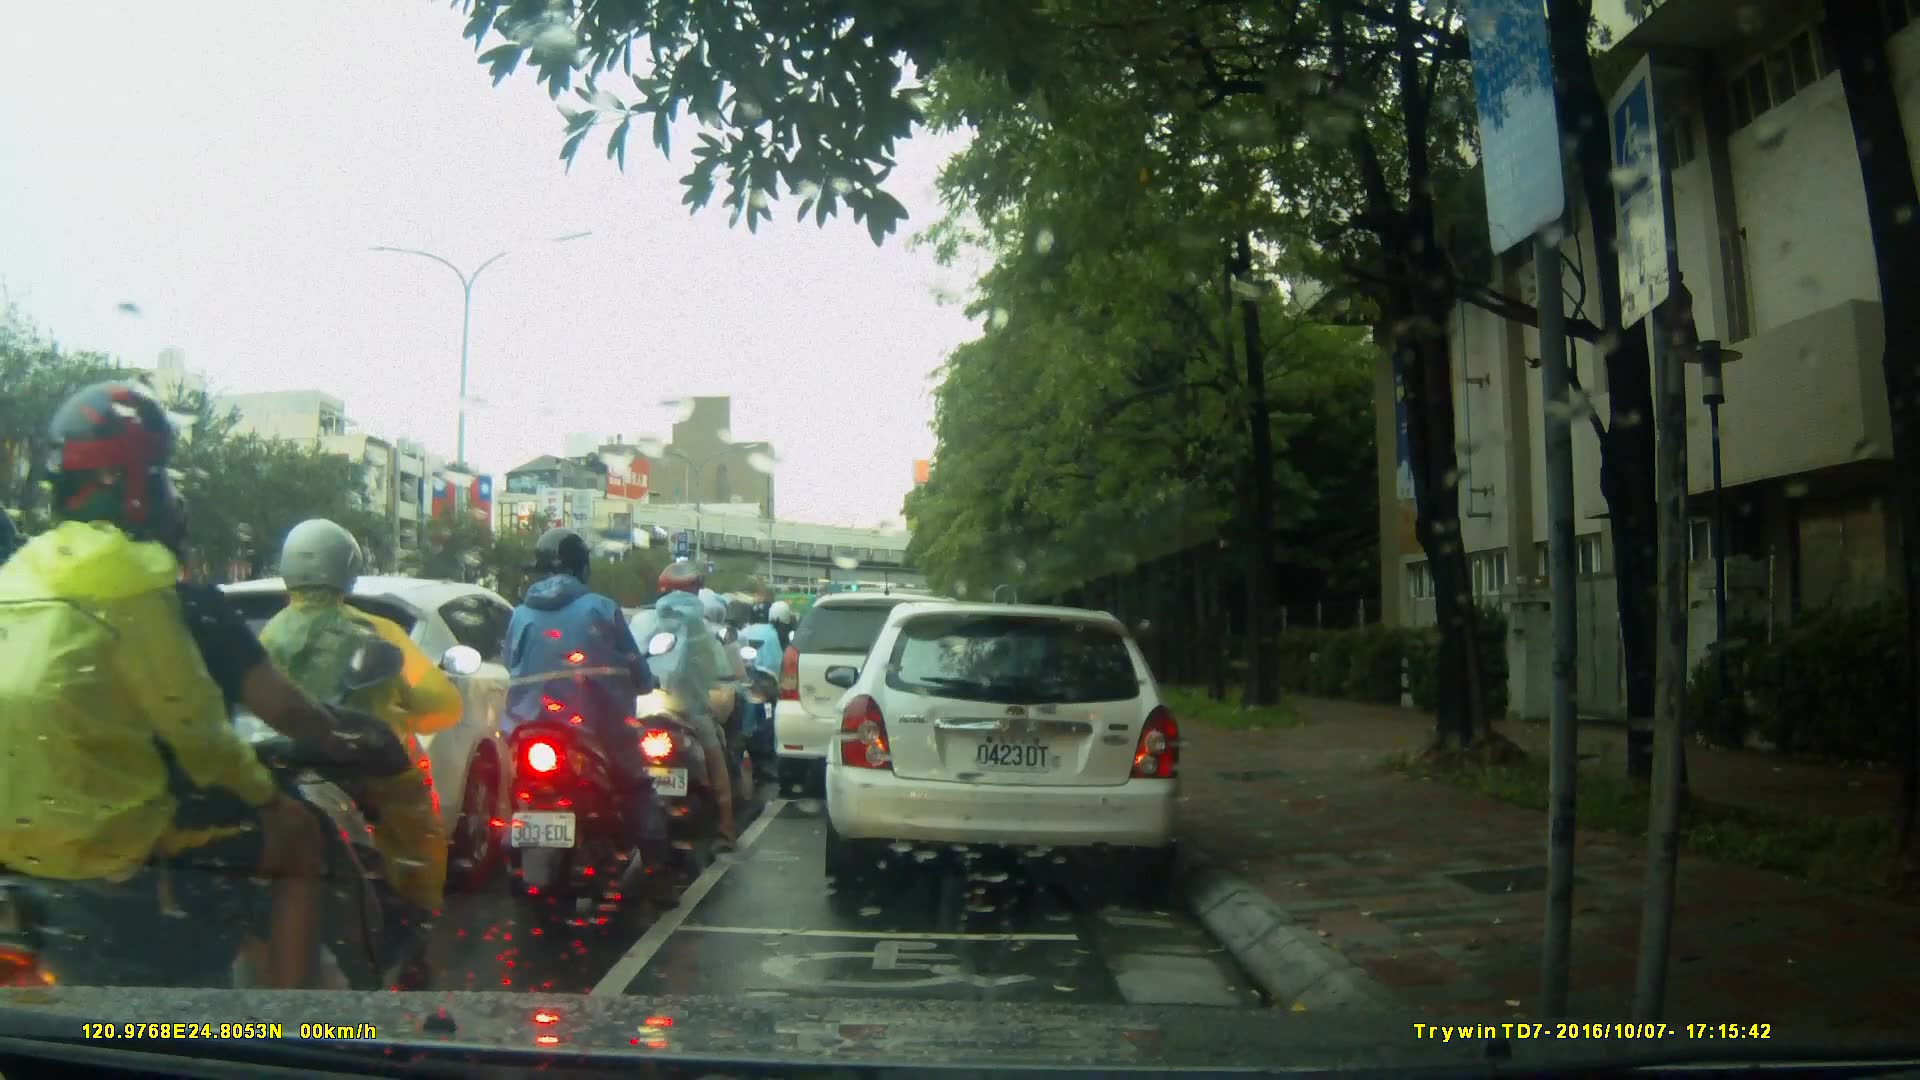rider: (5, 375, 385, 1063), (237, 521, 476, 1001), (498, 528, 682, 912), (611, 560, 736, 845), (654, 584, 761, 823), (735, 598, 795, 753)
vehicle: (161, 575, 600, 864), (822, 604, 1188, 883), (774, 595, 995, 802)
